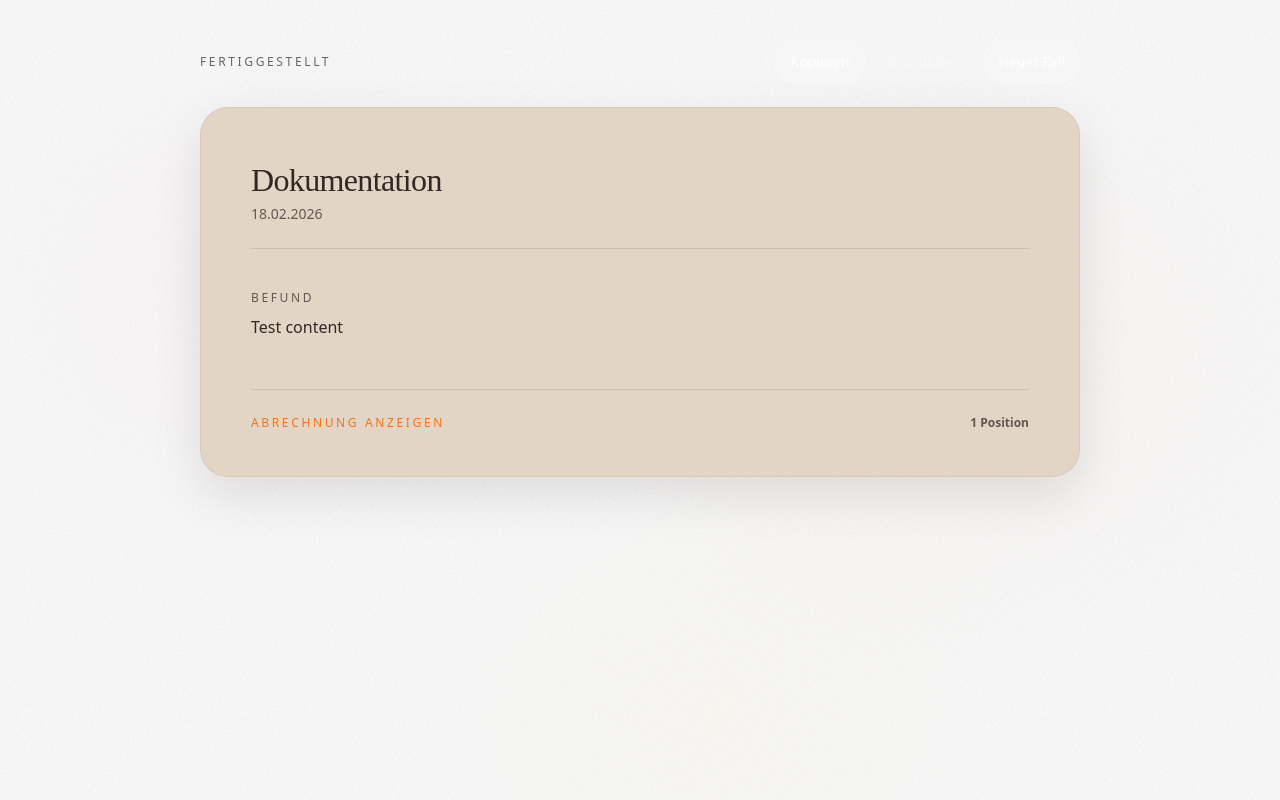
OutputFlow › Billing diagnostics › should prefer billingDetails over billingCodes when both present
Note: Click to expand
Click the button with test id "billing-toggle".
click(348, 423)  # box [251,414,1029,432]
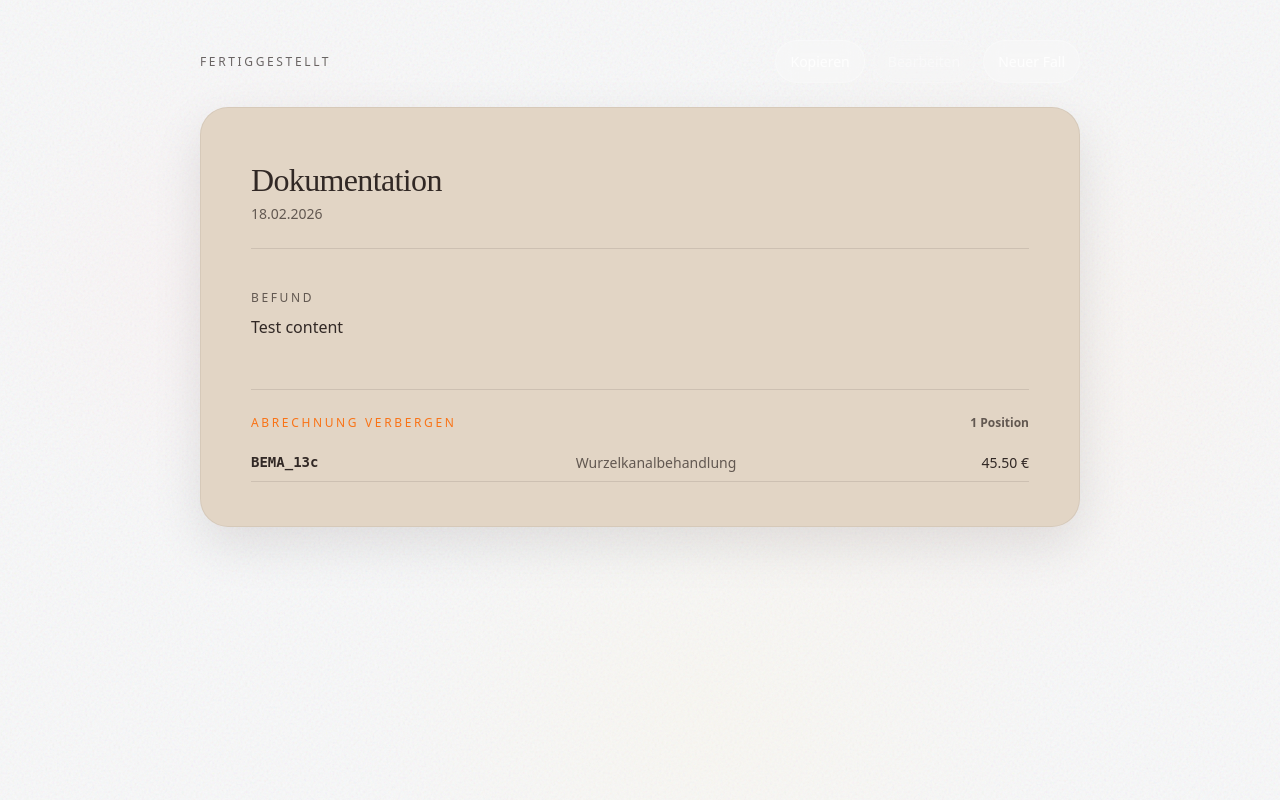
Now the text "BEMA_13c" is shown, box [251,452,318,473]
Now the text "Wurzelkanalbehandlung" is shown, box [576,452,736,473]
Now the text "45.50 €" is shown, box [982,452,1029,473]
